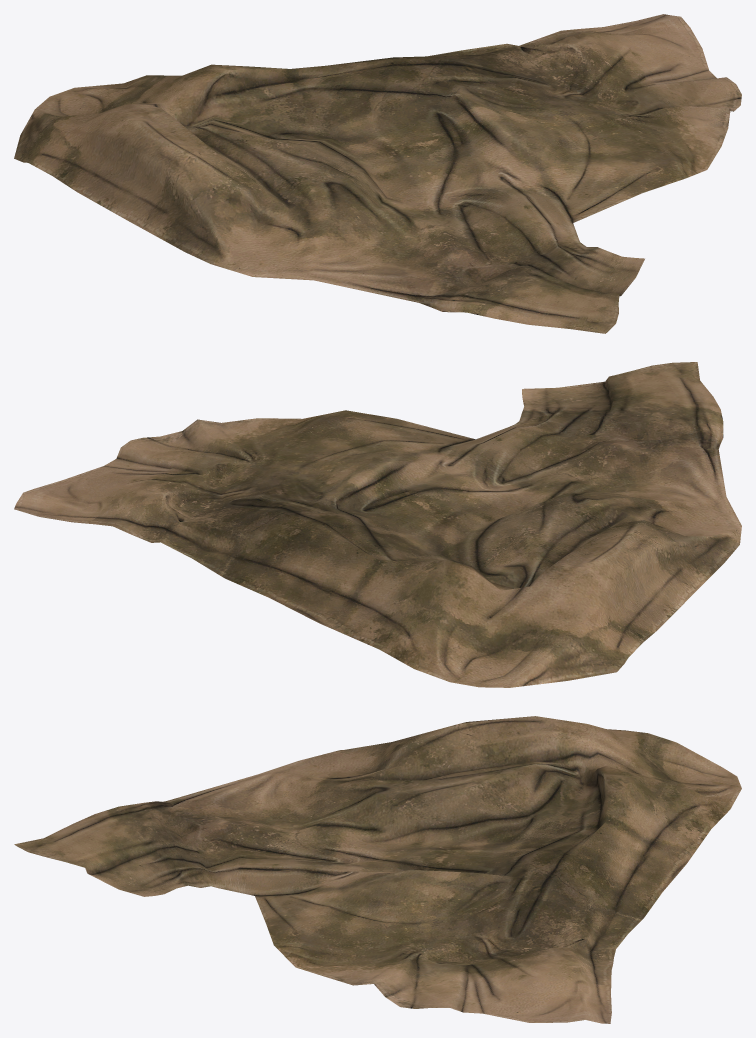
The model's file is bedsheet_old_flat.dae.
The picture shows the model from 3 angles, top to bottom: view 1: azimuth 30°, elevation 25°; view 2: azimuth 150°, elevation 25°; view 3: azimuth 270°, elevation 25°; orthographic projection. The views are drawn at different scales.
Parts seen in each view (by area): view 1: bedsheet_old__2_; view 2: bedsheet_old__2_; view 3: bedsheet_old__2_.
Part boxes in pixels (box(x1,y1,x2,y2)): bedsheet_old__2_: box(14, 14, 741, 333); bedsheet_old__2_: box(14, 362, 741, 687); bedsheet_old__2_: box(14, 716, 741, 1023).
Bounding box in the file's own units: 1.93 × 0.1694 × 2.05.
